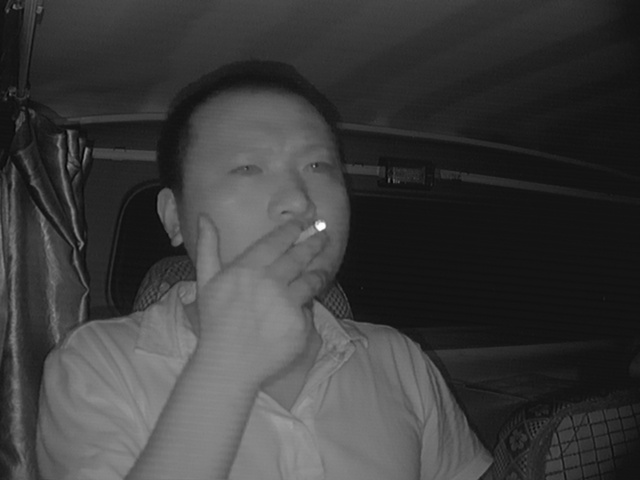hand: (242, 221, 328, 337)
